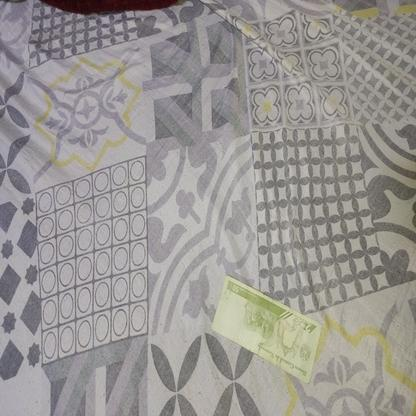fifty-back-vef: (210, 274, 324, 384)
